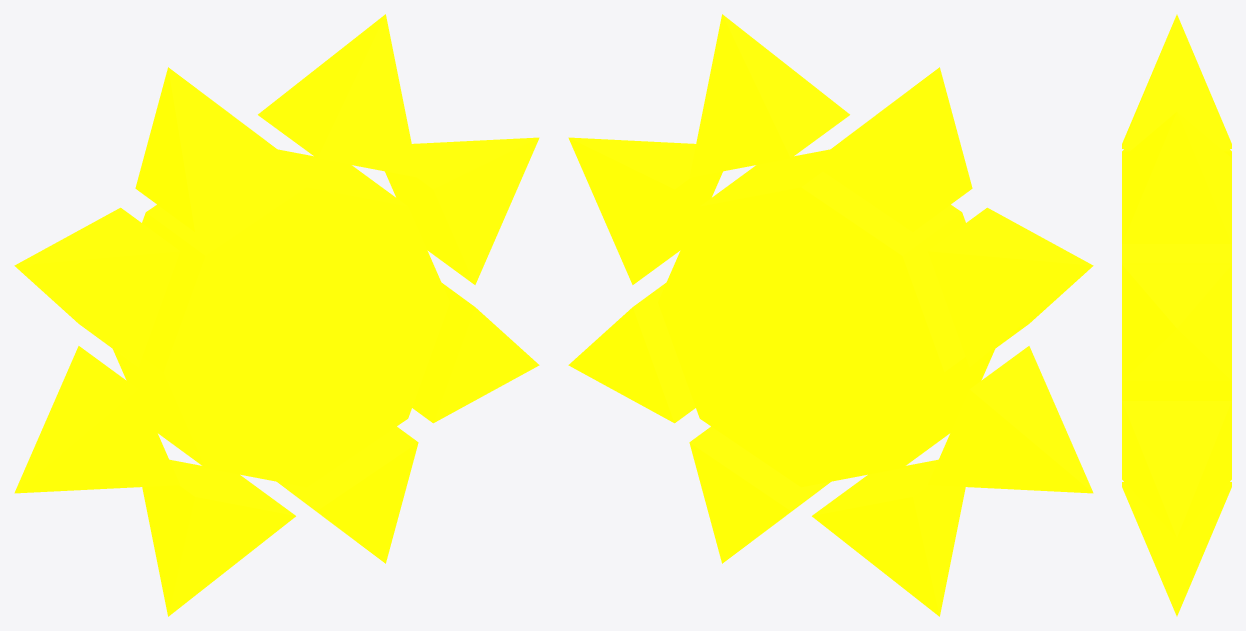
File: shine.glb
3 renders of one model, left to right at view 1: azimuth 30°, elevation 25°; view 2: azimuth 150°, elevation 25°; view 3: azimuth 270°, elevation 25°, orthographic. The views are drawn at different scales.
Parts seen in each view (by area): view 1: Shine; view 2: Shine; view 3: Shine.
Part boxes in pixels (bbox=[...]): Shine: bbox=[14, 14, 539, 616]; Shine: bbox=[568, 14, 1093, 616]; Shine: bbox=[1122, 14, 1231, 616].
Bounding box in the file's own units: 0.9164 × 0.9164 × 0.1804.
